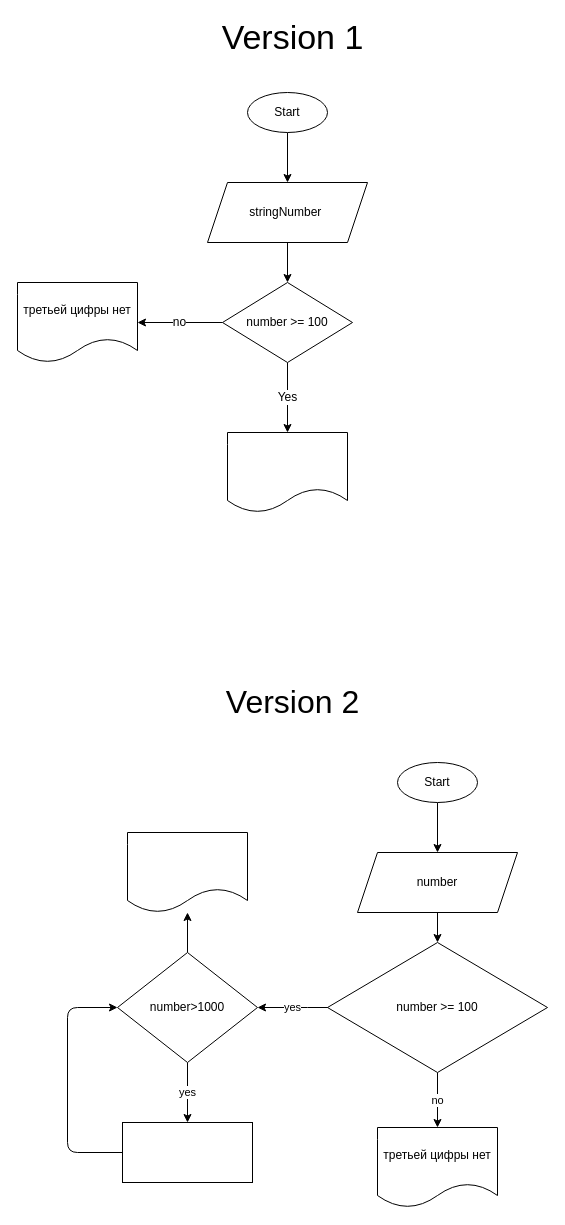
Some shapes in this 565 by 1225 pixel diagram are drawn without their labels. Each missing label, with the centre of its shape:
number = number / 10: point 187,1152
number%10: point 187,872
stringNumber[2]: point 287,472
